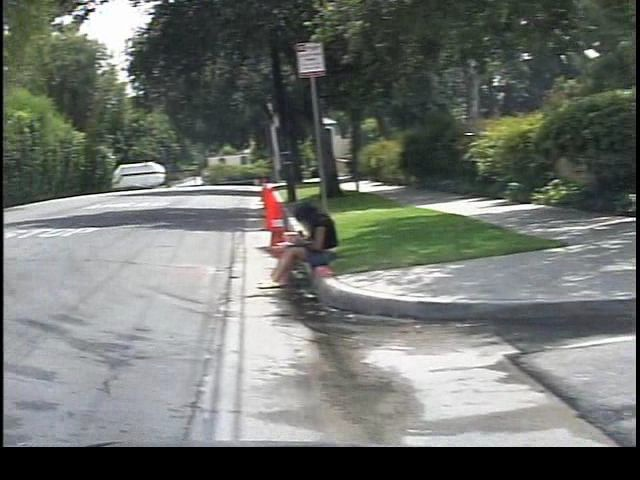person: (248, 196, 337, 291)
